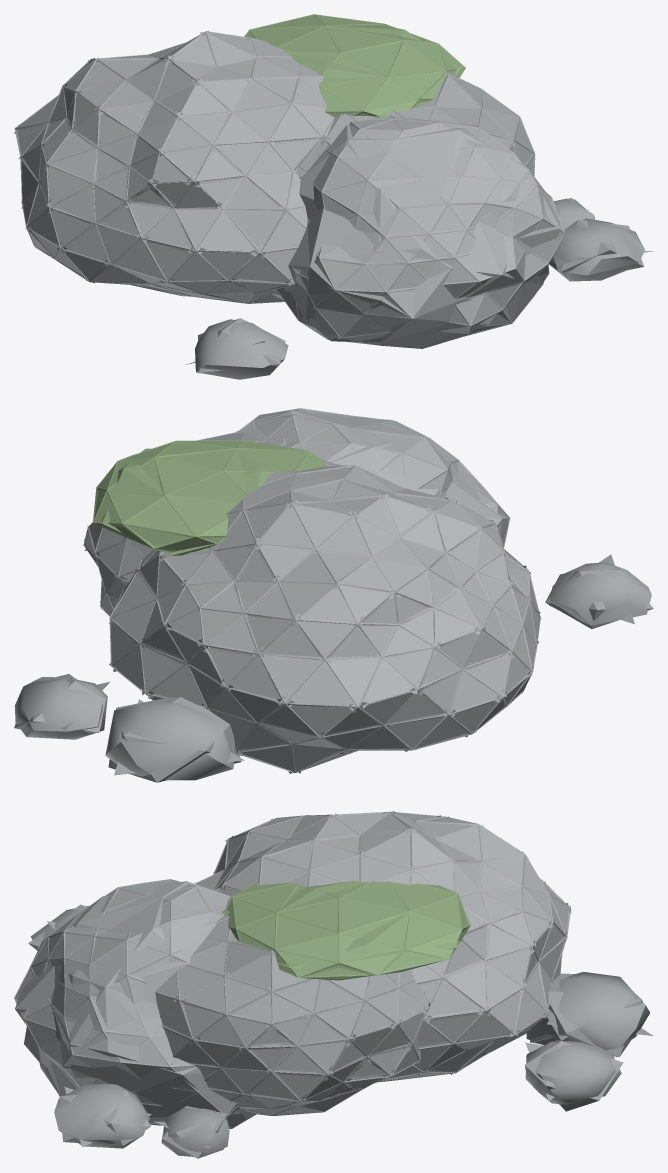
Rendered from rock.glb.
3 renders of one model, top to bottom at view 1: azimuth 30°, elevation 25°; view 2: azimuth 150°, elevation 25°; view 3: azimuth 270°, elevation 25°, orthographic. The views are drawn at different scales.
Visible parts, largest first — view 1: Rock_LOD3_mesh, Rock_LOD2_mesh, Rock_LOD0_mesh, Rock_LOD1_mesh; view 2: Rock_LOD3_mesh, Rock_LOD0_mesh, Rock_LOD2_mesh, Rock_LOD1_mesh; view 3: Rock_LOD3_mesh, Rock_LOD2_mesh, Rock_LOD0_mesh, Rock_LOD1_mesh.
Part boxes in pixels (box(x1,y1,x2,y2)): Rock_LOD3_mesh: box(17, 25, 653, 348); Rock_LOD2_mesh: box(15, 15, 588, 364); Rock_LOD0_mesh: box(14, 14, 644, 379); Rock_LOD1_mesh: box(15, 14, 644, 373); Rock_LOD3_mesh: box(61, 410, 634, 775); Rock_LOD0_mesh: box(14, 408, 651, 780); Rock_LOD2_mesh: box(84, 409, 539, 775); Rock_LOD1_mesh: box(14, 409, 653, 782); Rock_LOD3_mesh: box(15, 812, 651, 1147); Rock_LOD2_mesh: box(16, 812, 653, 1148); Rock_LOD0_mesh: box(14, 811, 650, 1156); Rock_LOD1_mesh: box(14, 811, 642, 1158).
Bounding box in the file's own units: 2.18 × 1.01 × 2.48.
